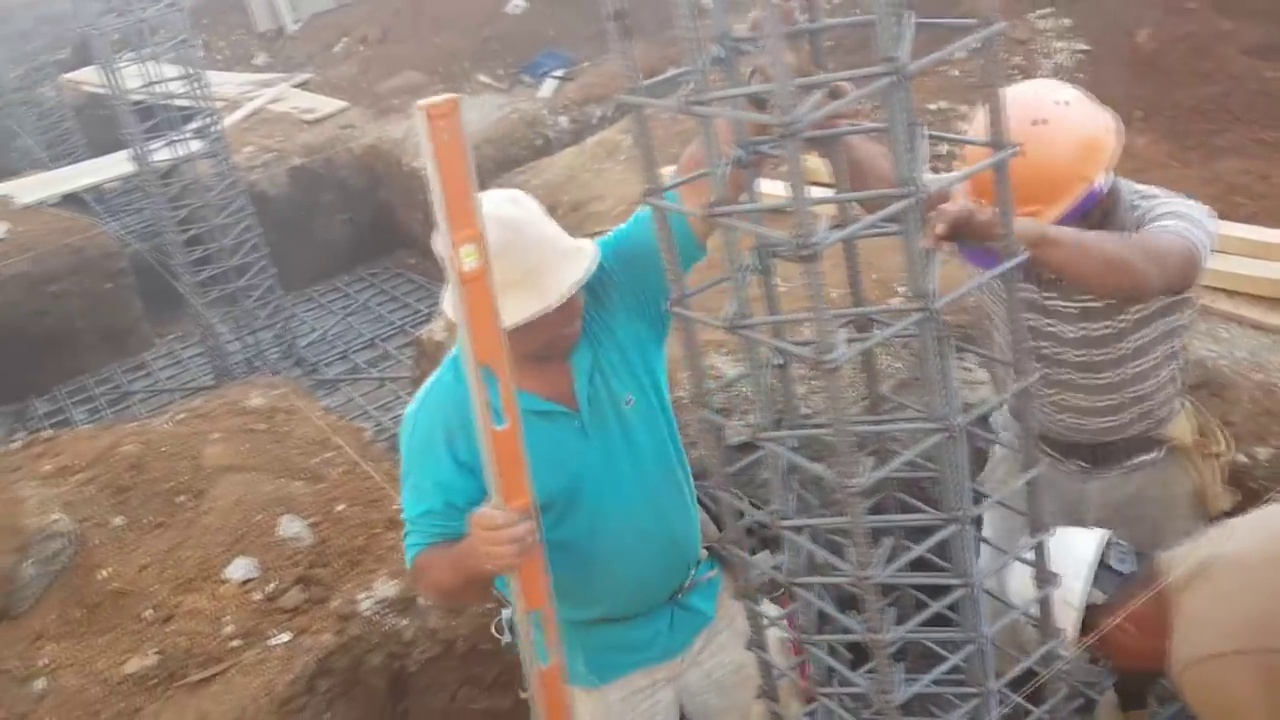helmet: (957, 80, 1120, 243), (1002, 515, 1105, 675)
helmet-off: (435, 205, 598, 370)
helmet-on: (954, 70, 1134, 252), (1004, 512, 1182, 678)
person: (808, 69, 1218, 655), (395, 123, 784, 713), (998, 500, 1280, 719)
